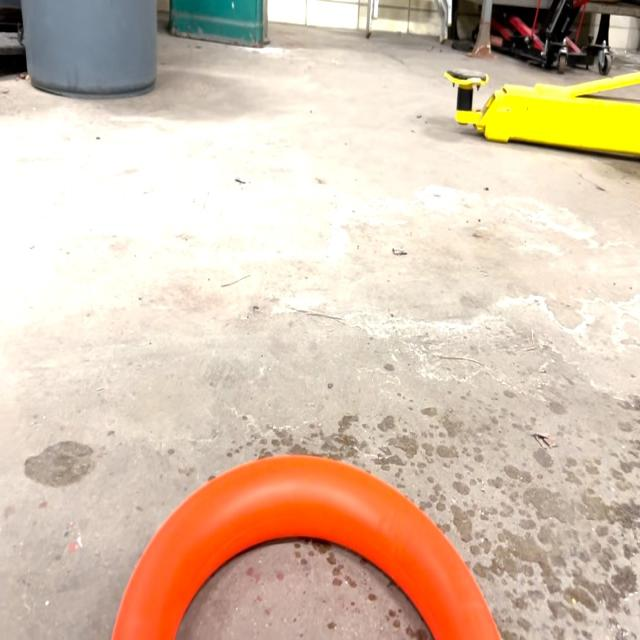note: (110, 456, 510, 640)
